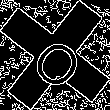O_NE: (22, 21, 88, 89)
